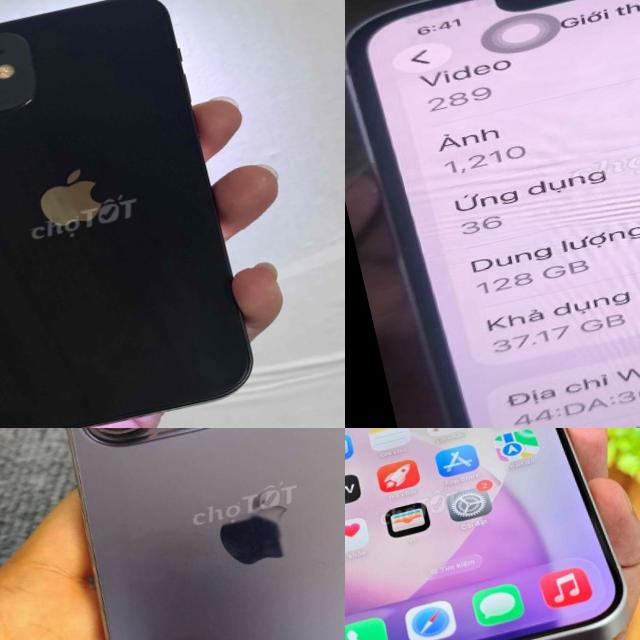gen_12_13: (345, 0, 640, 428), (0, 0, 262, 428)
gen_14: (15, 428, 345, 640)
gen_15: (345, 428, 640, 640)
